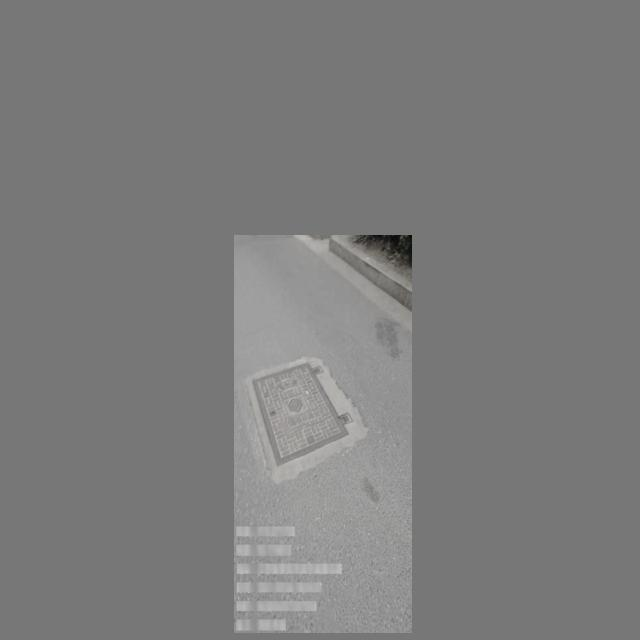good: (250, 357, 361, 462)
